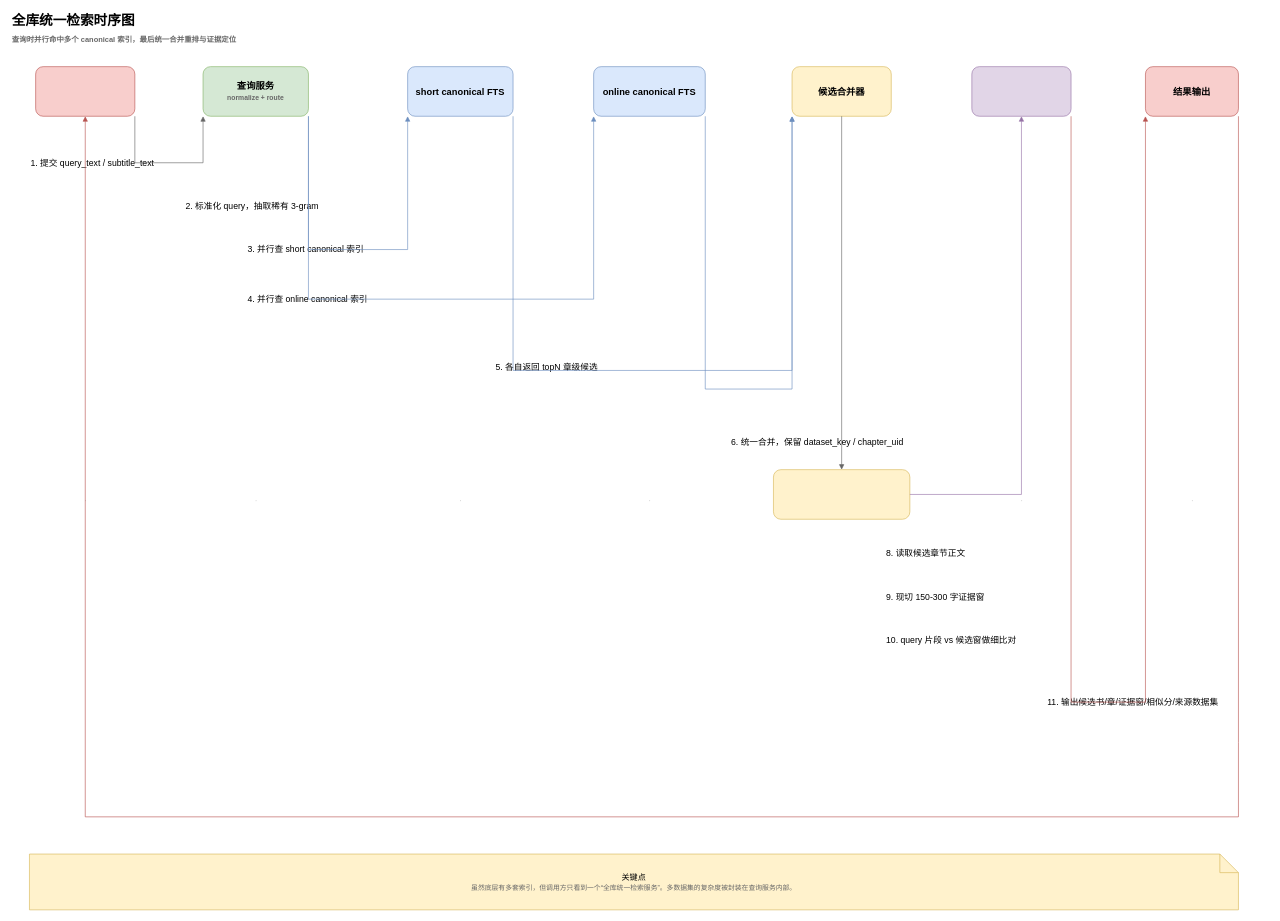
This 1280x921 diagram has some shape labels left out. The shapes that lost their labels are listed below. From the top down, each one's centre as x and y in pixels, then its label:
[85,91]: 调用方 字幕 / 文本查询
[1021,91]: 细比对服务
[841,494]: 7. 初步重排 coarse score + overlap score
